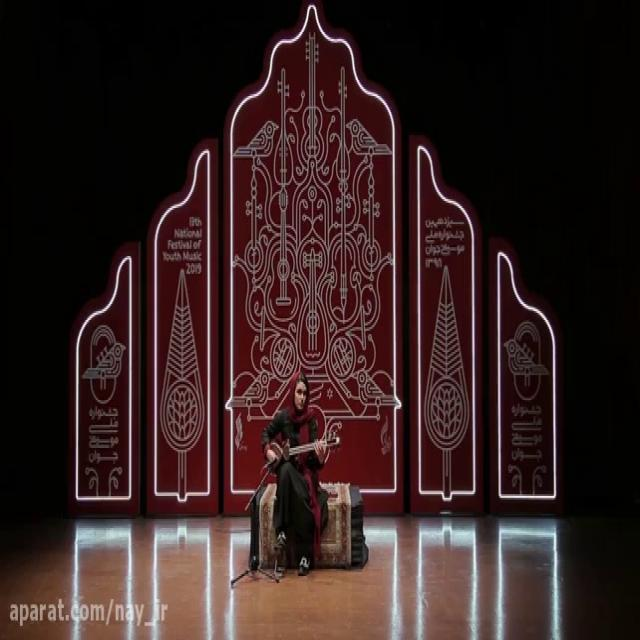Setar: (265, 434, 343, 477)
